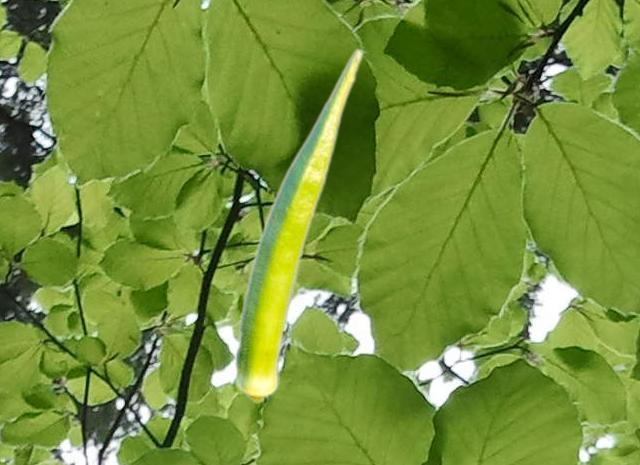okra: (234, 47, 363, 403)
